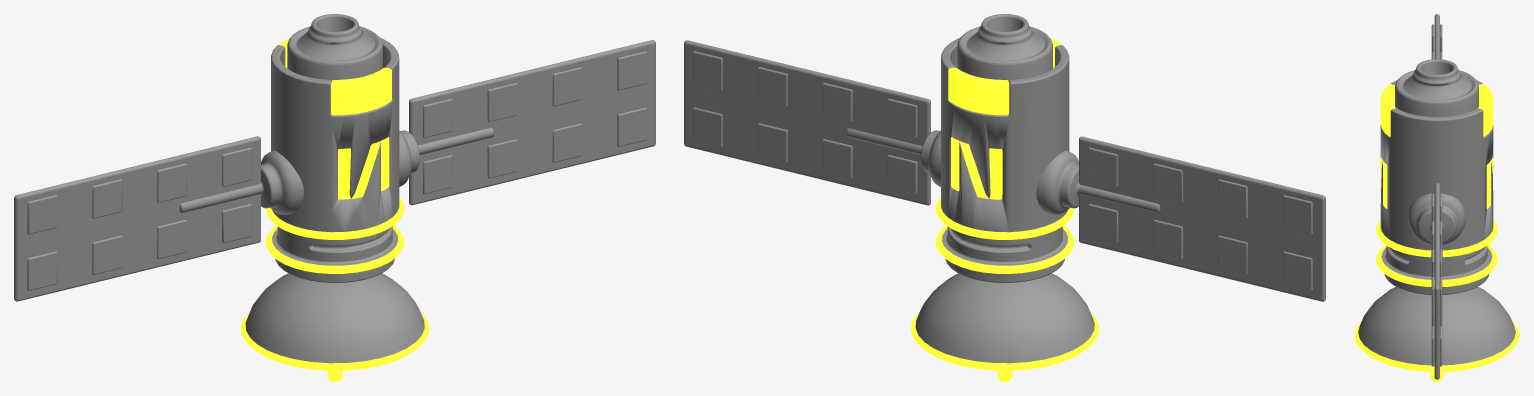
File: NAKA-Satelite-Final_optimized.glb
3 renders of one model, left to right at view 1: azimuth 30°, elevation 25°; view 2: azimuth 150°, elevation 25°; view 3: azimuth 270°, elevation 25°, orthographic. The views are drawn at different scales.
Visible parts, largest first — view 1: Sphere.005; view 2: Sphere.005; view 3: Sphere.005.
Part boxes in pixels (x1,y1,x2,y2): Sphere.005: (14,14,655,381); Sphere.005: (684,14,1325,381); Sphere.005: (1354,14,1519,381).
Bounding box in the file's own units: 0.306 × 0.1633 × 0.078.
